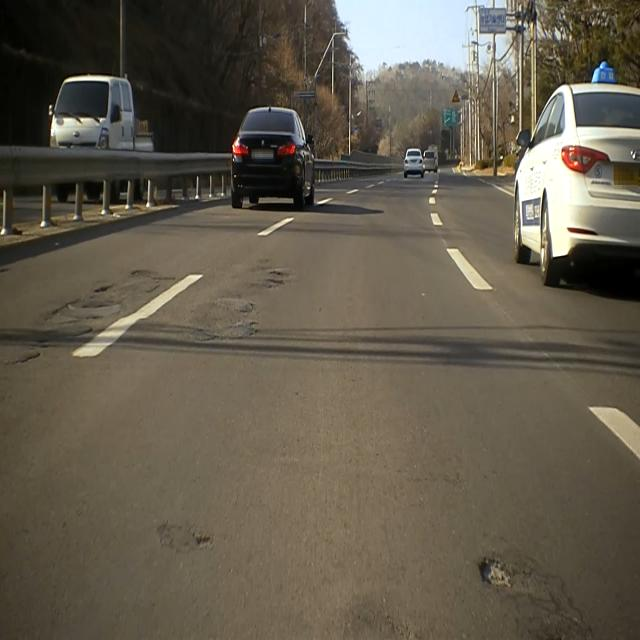Pothole: (7, 258, 152, 372), (469, 543, 580, 626), (145, 522, 228, 556), (251, 268, 295, 300)
